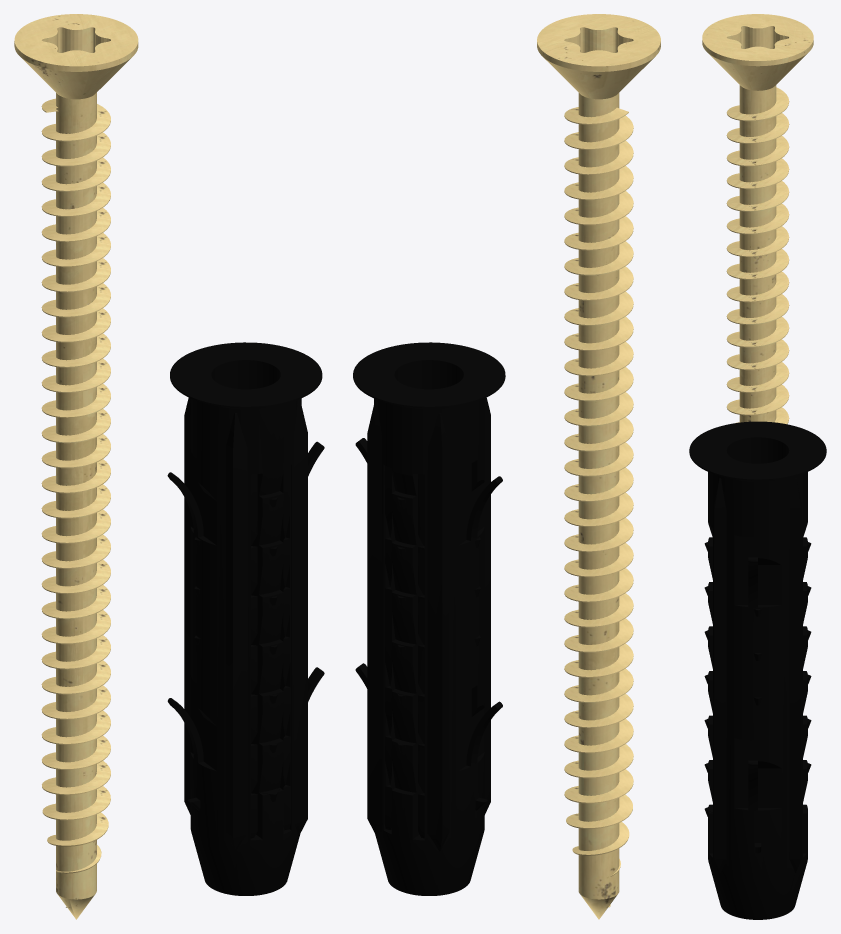
Rendered from KAXN_T.glb.
3 views of the same model, side by side, from view 1: azimuth 30°, elevation 25°; view 2: azimuth 150°, elevation 25°; view 3: azimuth 270°, elevation 25° (orthographic). The views are drawn at different scales.
Parts seen in each view (by area): view 1: AXN.002, SCREW_TORX; view 2: AXN.002, SCREW_TORX; view 3: AXN.002, SCREW_TORX.
Part boxes in pixels (<box>): AXN.002: <box>167,342,324,895</box>; SCREW_TORX: <box>14,14,138,919</box>; AXN.002: <box>353,342,505,895</box>; SCREW_TORX: <box>537,14,660,919</box>; AXN.002: <box>689,421,826,919</box>; SCREW_TORX: <box>702,14,813,424</box>.
Size of the model in its own units: 0.0247 by 0.07 by 0.011.
Materials: 2 (2 with a texture image).
